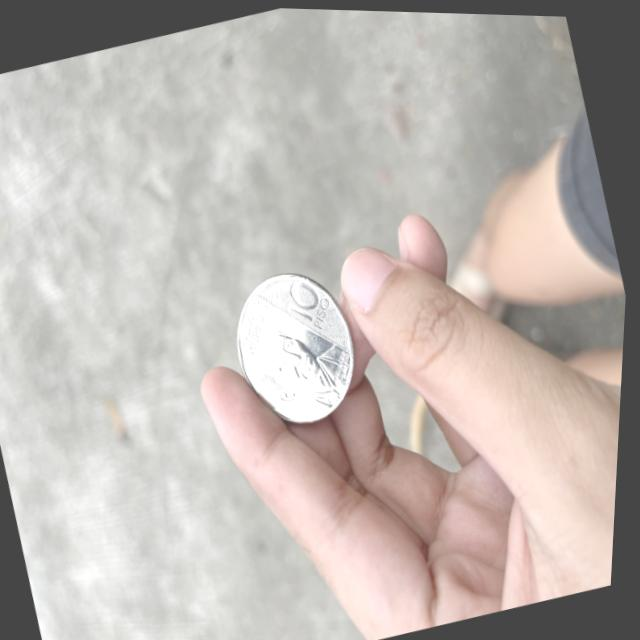10_New_Front: (274, 266, 345, 341)
